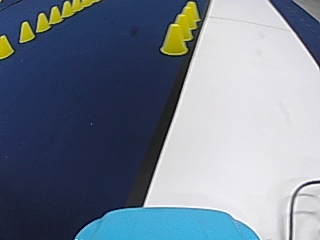cone: (159, 22, 187, 55), (172, 14, 192, 40), (181, 1, 200, 27), (18, 20, 34, 42), (0, 34, 14, 58), (35, 11, 49, 31), (48, 5, 62, 24), (60, 0, 72, 16)
